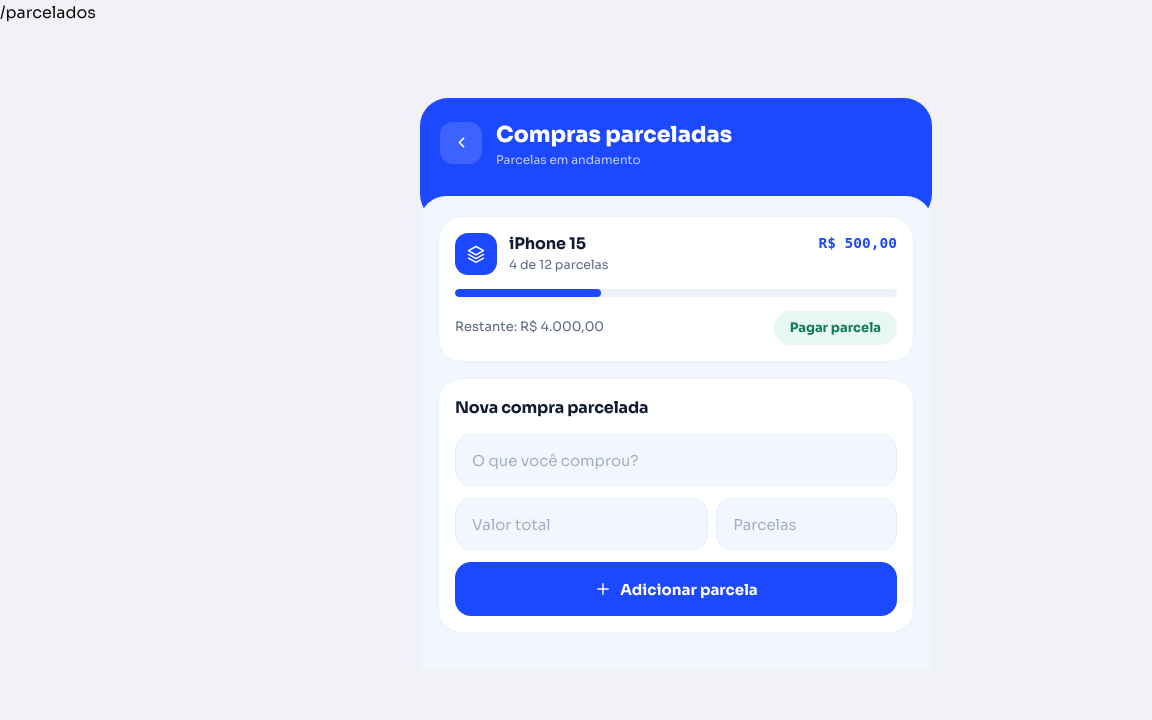
Test case: Parcelados — a confirmação diz o que será removido › mostra nome, valor e quantas parcelas já foram pagas, e avisa que as pagas continuam no Extrato
Step 1. Click the button "iPhone 15 4 de 12 parcelas R$ 500,00" → [476, 254], box [455, 233, 897, 275]
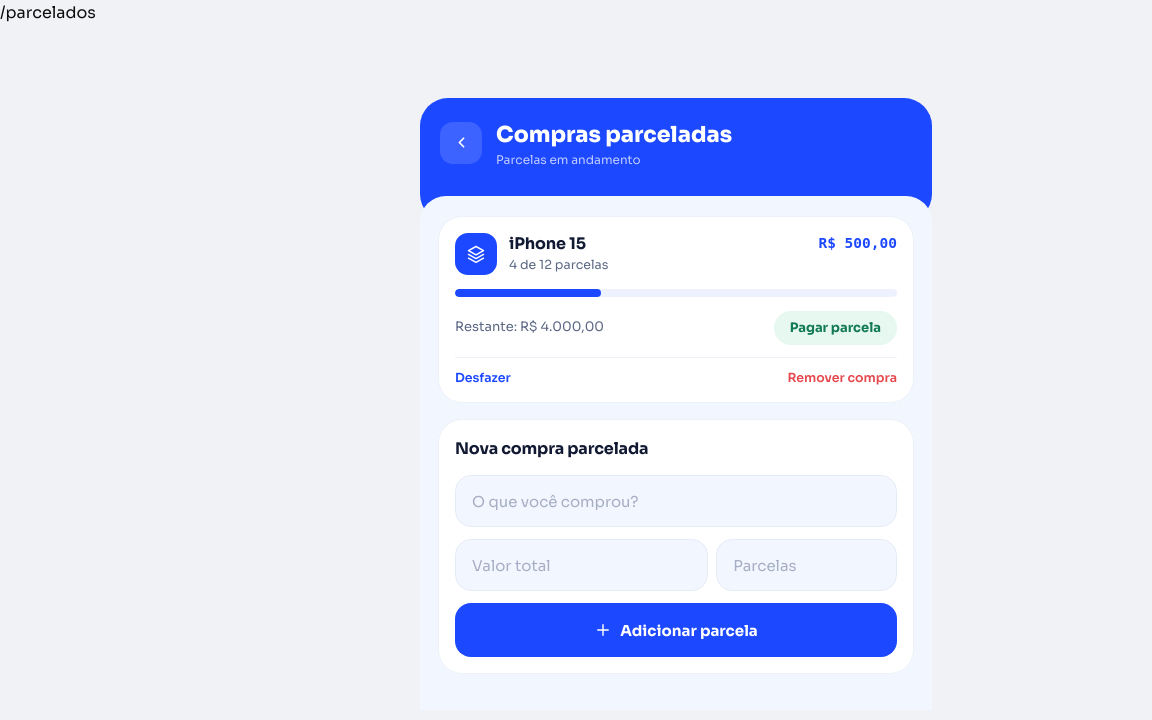
Step 2. Click the button titled "Remover" → [842, 378], box [787, 370, 897, 386]
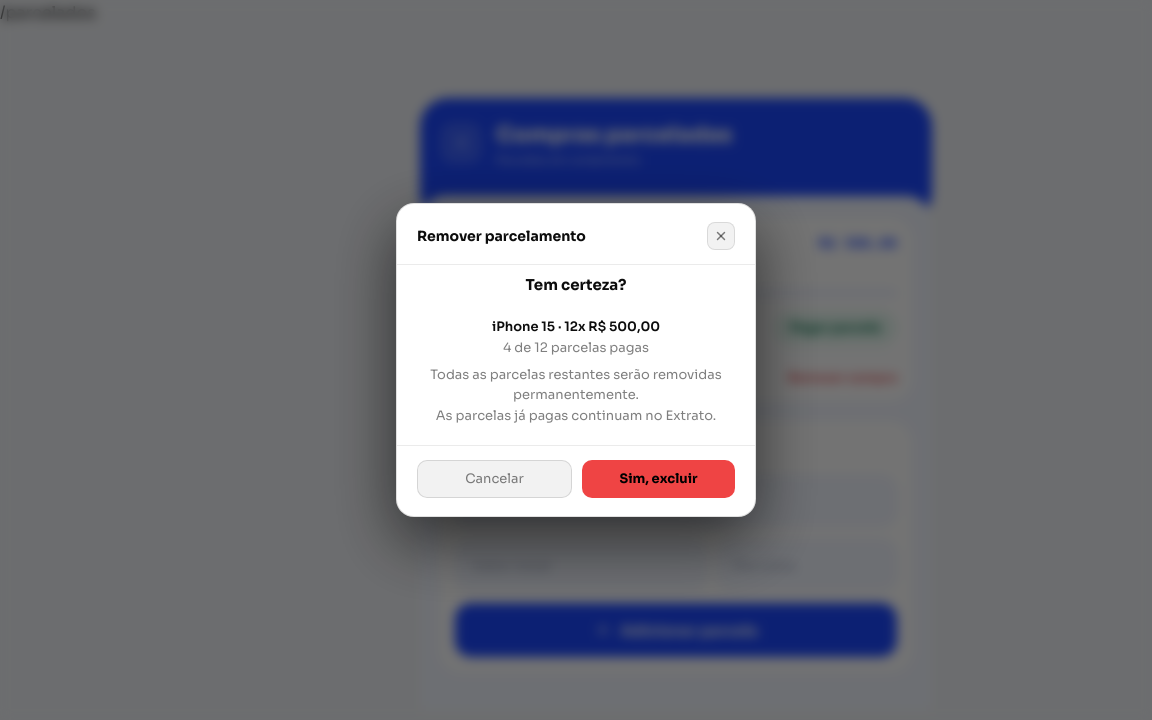
expect the dialog "Remover parcelamento" shows "iPhone 15": met, box [492, 318, 555, 335]
expect the dialog "Remover parcelamento" shows "12x R$ 500,00": met, box [396, 203, 756, 517]
expect the dialog "Remover parcelamento" shows "4 de 12 parcelas pagas": met, box [396, 203, 756, 517]
